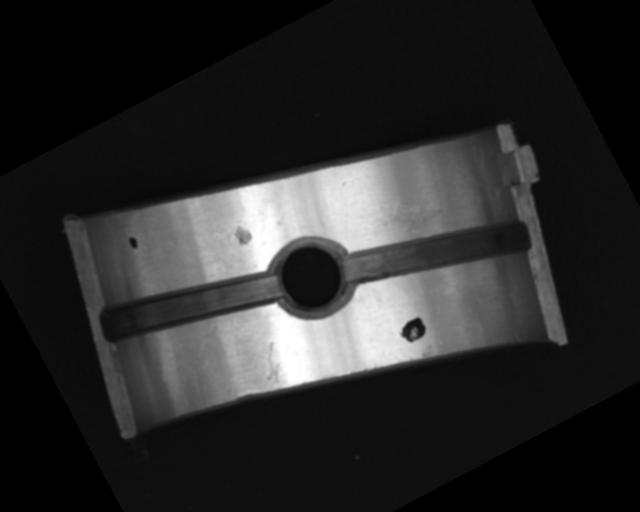blot: (396, 313, 431, 346), (125, 234, 141, 251)
bruise: (230, 221, 254, 248)
gap: (337, 175, 534, 328), (92, 231, 283, 374)
hole: (259, 222, 365, 329)
nick: (252, 339, 294, 391)
scratch: (382, 170, 476, 251)
